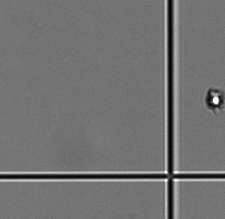Living Cell: (205, 89, 223, 111)
